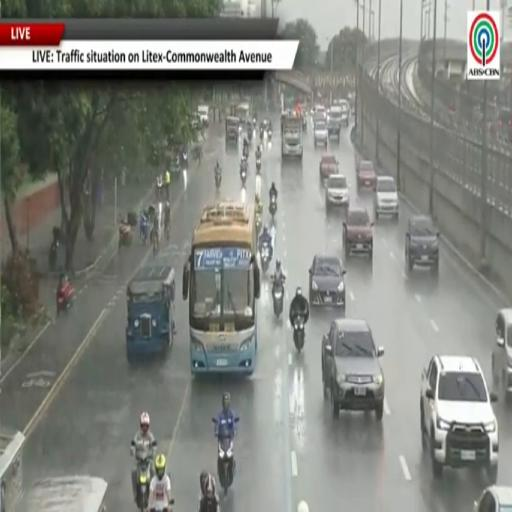bus: (183, 200, 260, 375)
car: (420, 355, 498, 483), (322, 318, 384, 421), (405, 215, 440, 274), (309, 254, 345, 308), (492, 309, 511, 397), (343, 207, 374, 259), (374, 176, 398, 219), (474, 486, 511, 511), (325, 174, 349, 210), (357, 160, 377, 189), (319, 154, 338, 182), (314, 121, 327, 147), (328, 116, 340, 141), (198, 105, 209, 126), (314, 105, 326, 120), (191, 114, 201, 130)
jeepney: (126, 265, 175, 361), (17, 476, 107, 511), (236, 102, 252, 127), (226, 116, 239, 145)
motorcycle: (212, 419, 235, 494), (136, 457, 152, 511), (57, 280, 74, 315), (272, 277, 284, 317), (293, 315, 305, 353), (119, 221, 133, 248), (49, 240, 58, 270), (261, 244, 270, 271), (140, 216, 148, 245), (269, 196, 276, 220), (240, 167, 247, 186), (182, 151, 188, 169), (215, 172, 221, 189), (256, 214, 261, 233), (256, 157, 261, 173), (248, 126, 253, 142), (267, 129, 273, 141), (243, 146, 248, 158), (260, 130, 264, 140)
truck: (281, 114, 302, 158)
